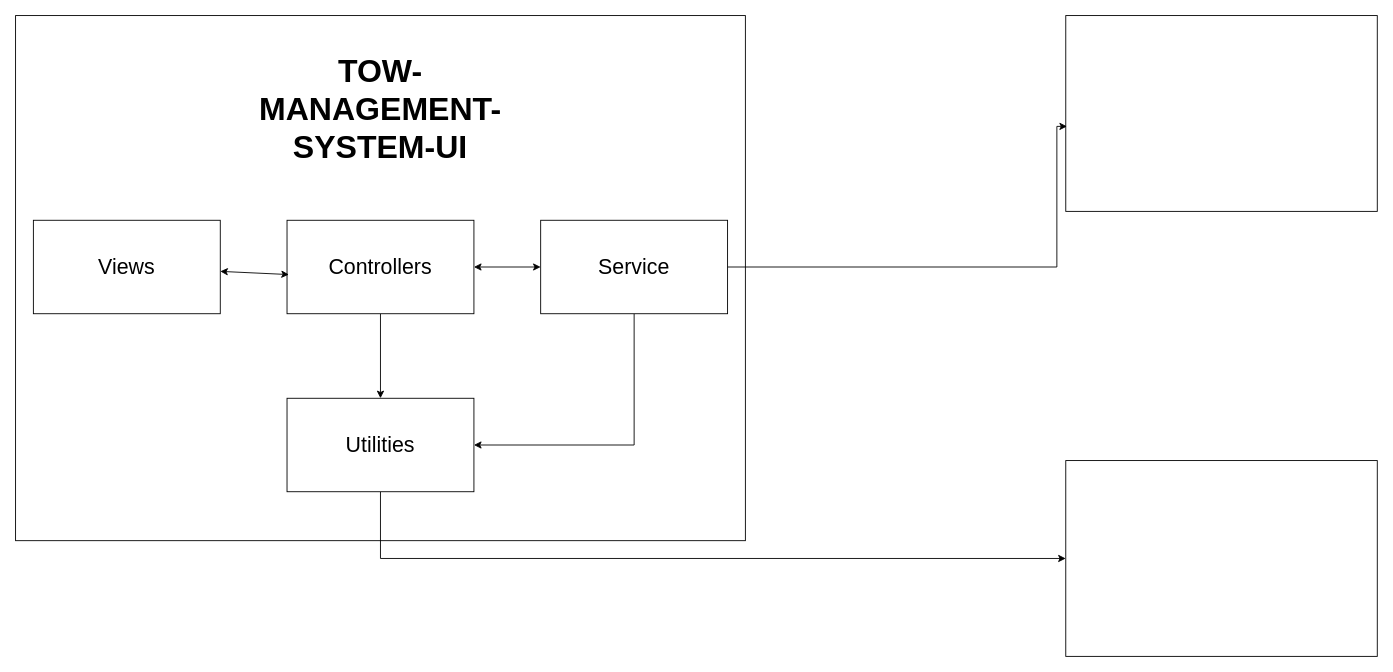
This 1393x672 diagram has some shape labels left out. The shapes that lost their labels are listed below. From the top down, each one's centre as x and y in pixels, then its label:
point (1221, 113): TOW-MANAGEMENT-SYSTEM-API
point (1221, 558): TOW-MANAGEMENT-SYSTEM-IDENTITY-POOL
